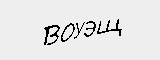В: (40, 23, 59, 48)
О: (59, 20, 75, 44)
У: (73, 19, 84, 42)
Щ: (96, 19, 125, 37)
Э: (82, 19, 96, 39)
